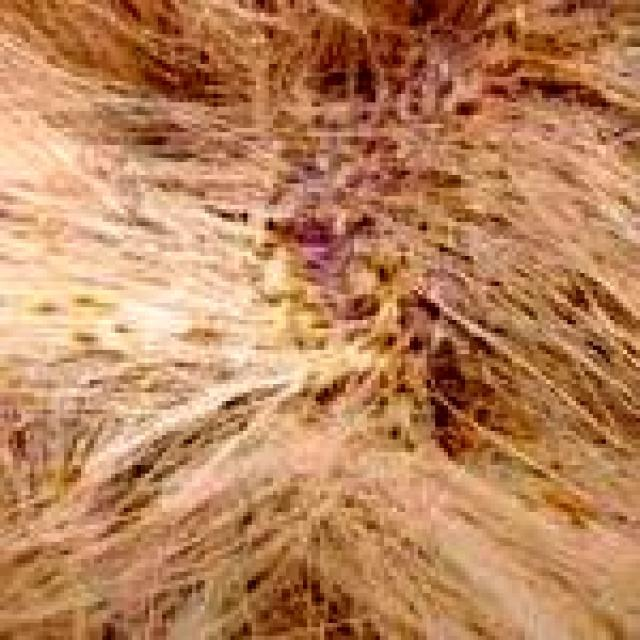fungal infection: (252, 42, 509, 392)
